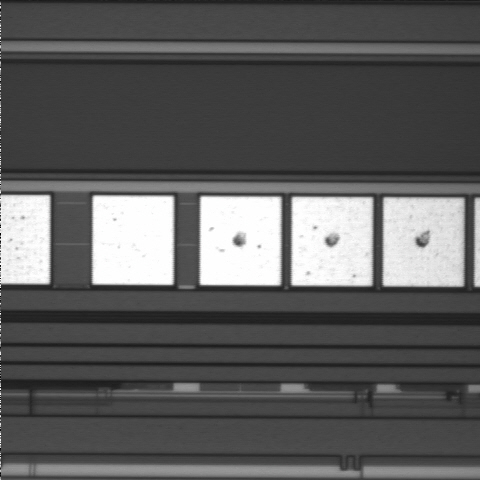pad: (92, 196, 174, 285), (200, 196, 281, 285), (292, 197, 373, 286), (383, 197, 464, 286)
